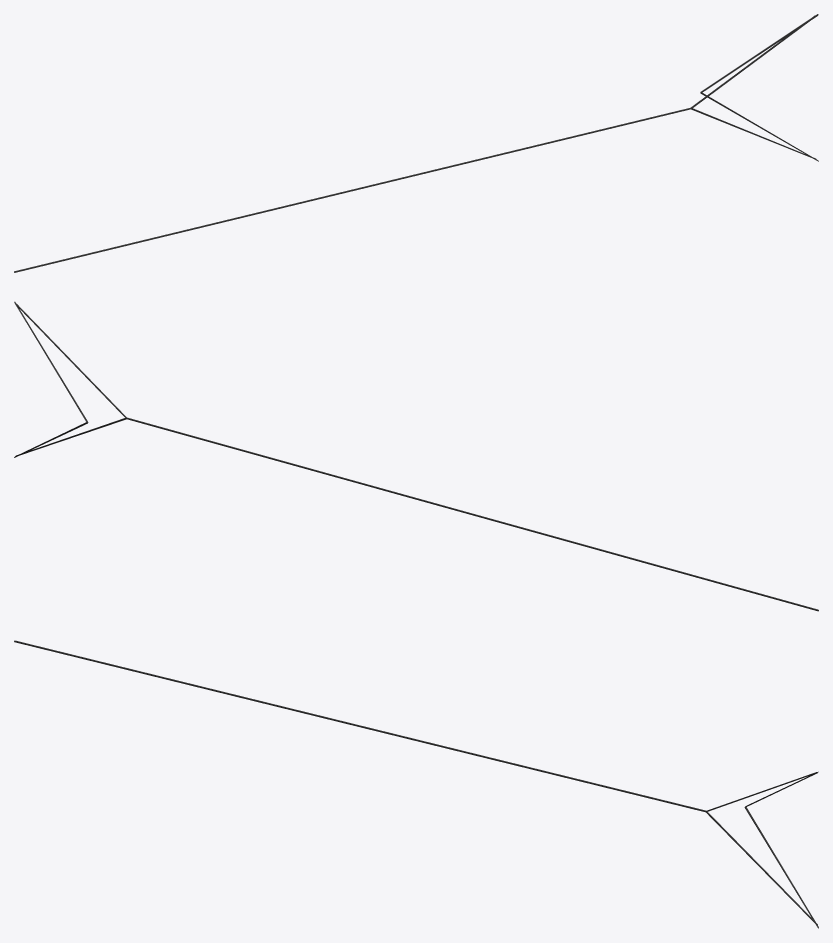
Rendered from mooringharness.gltf.
The picture shows the model from 3 angles, top to bottom: view 1: azimuth 30°, elevation 25°; view 2: azimuth 150°, elevation 25°; view 3: azimuth 330°, elevation 25°; orthographic projection. The views are drawn at different scales.
Visible parts, largest first — view 1: anchorrope, anchorharness, anchorharnessrelaxed; view 2: anchorrope; view 3: anchorrope, anchorharness.
Part boxes in pixels (<box>): anchorrope: <box>14,107,691,272</box>; anchorharness: <box>691,15,816,159</box>; anchorharnessrelaxed: <box>700,14,818,161</box>; anchorrope: <box>126,417,818,611</box>; anchorrope: <box>14,640,705,812</box>; anchorharness: <box>706,772,817,925</box>.
Bounding box in the file's own units: 10.93 × 1.98 × 0.6119.
